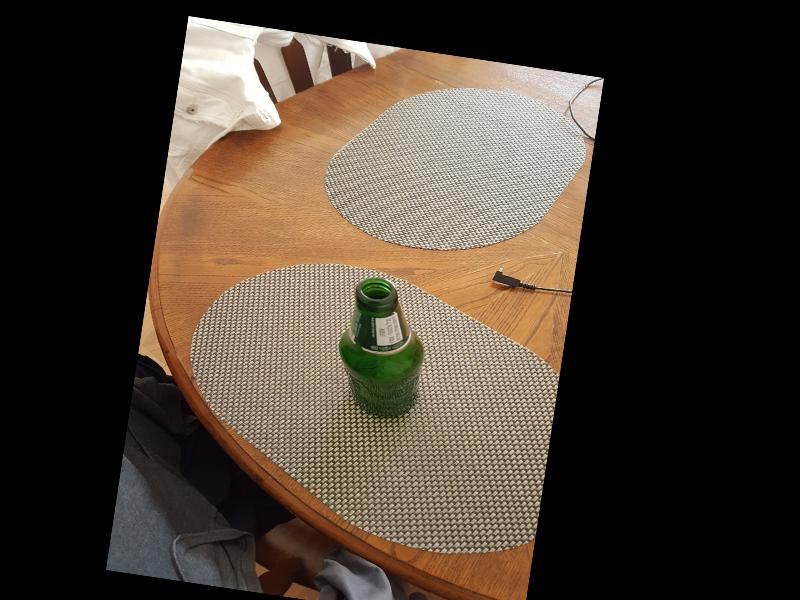Beer: (328, 275, 433, 422)
